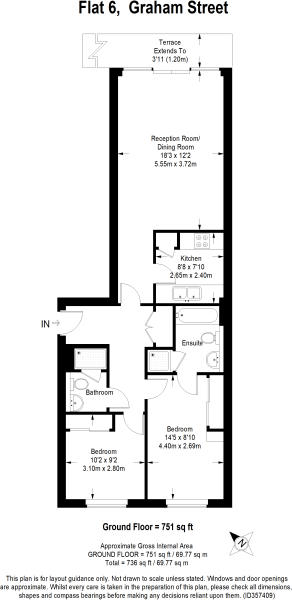GardenMeasurements: (75, 28, 245, 70)
GrossArea: (71, 541, 216, 570)
